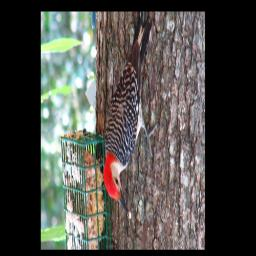Woodpecker: (102, 15, 161, 220)
